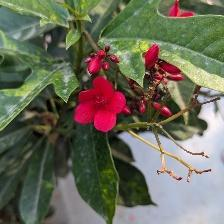jatropha: (74, 77, 128, 136)
